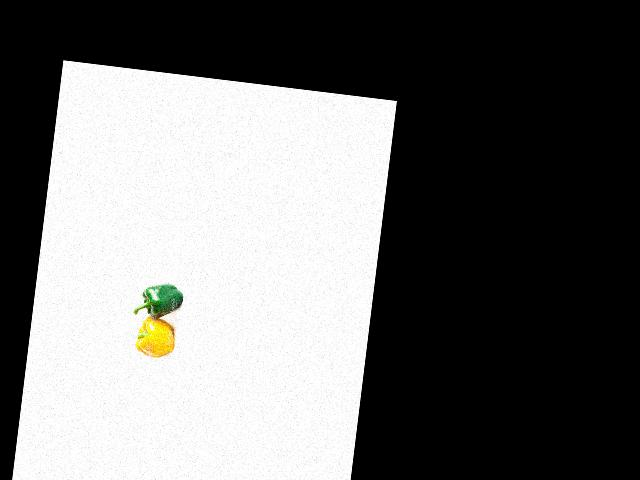bell_pepper: (137, 277, 190, 321)
